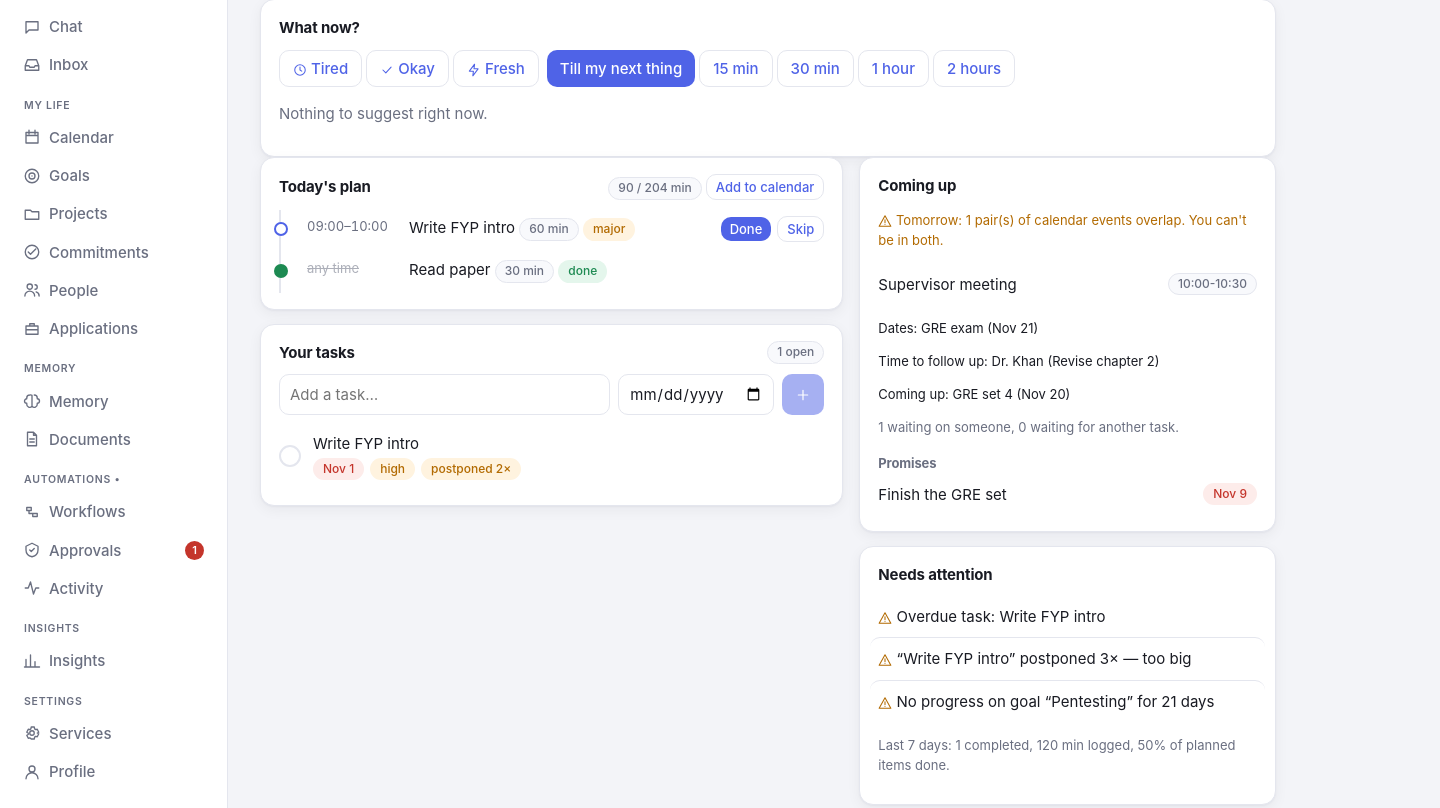
dashboard smoke tests › Services tab lists connections without secrets and runs a check
The width and height of the screenshot is (1440, 808).
(page scrolled)
Click the button "Services" at [114, 734], box [12,715,215,752]
(page scrolled)
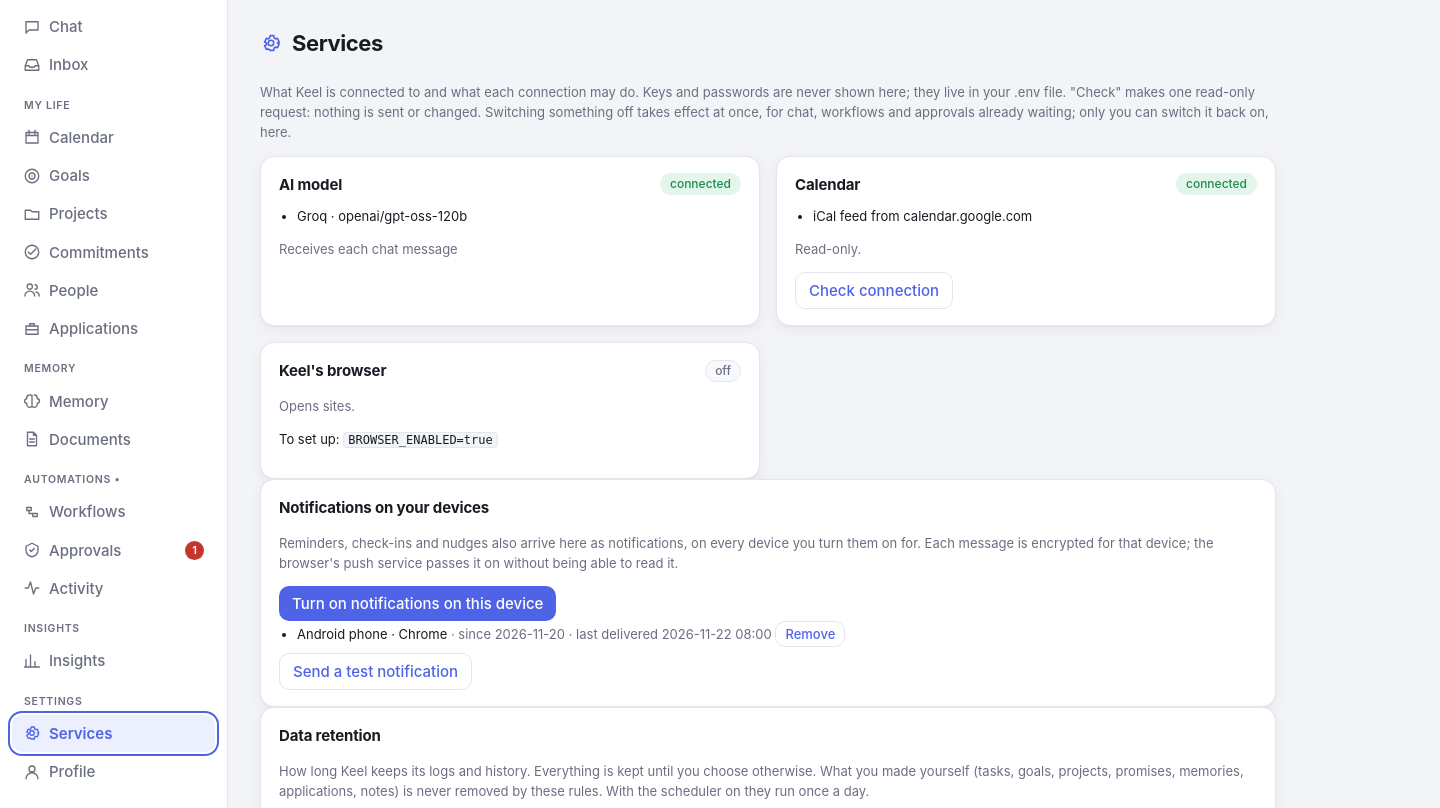
Result: the list item "Groq · openai/gpt-oss-120b" is shown at [297,208,467,224]
Result: the text "BROWSER_ENABLED=true" is shown at [343,432,498,448]
Result: the number of buttons "Check connection" is 1
Click the button "Check connection" at [874, 291], box [795,272,953,309]
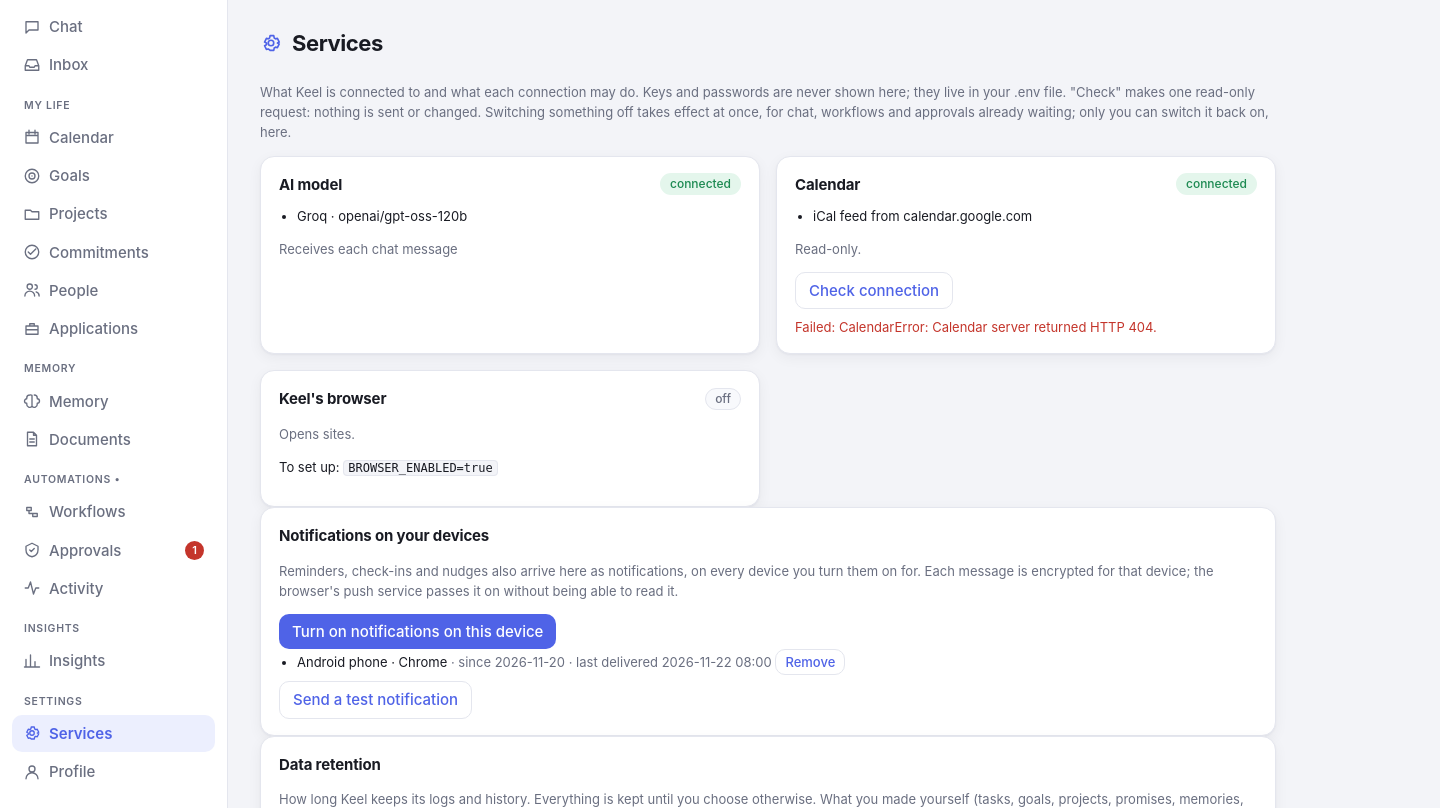
Result: the message shows "Failed: CalendarError: Calendar server returned HTTP 404" at [795,317,1157,337]
